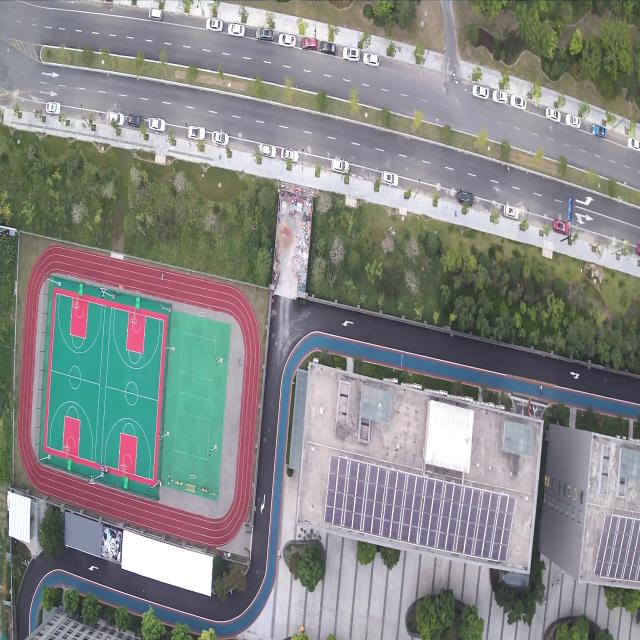drone: (85, 279, 89, 286)
